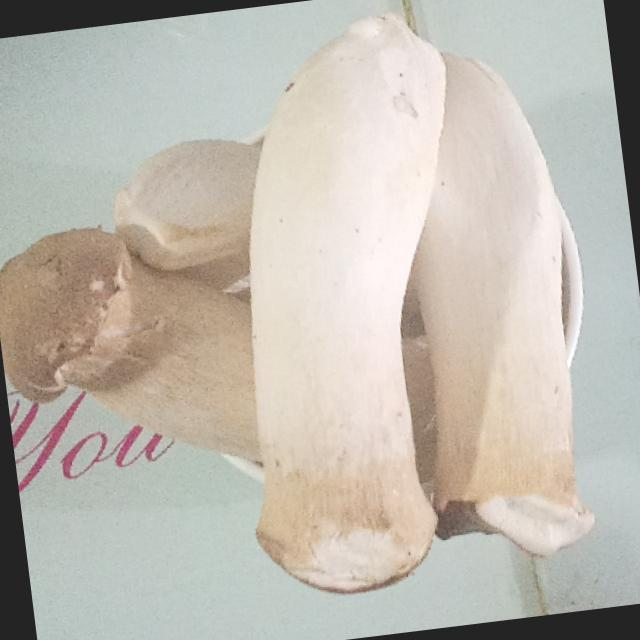Pleurotus eryngii: (176, 10, 505, 622), (376, 41, 602, 581)
